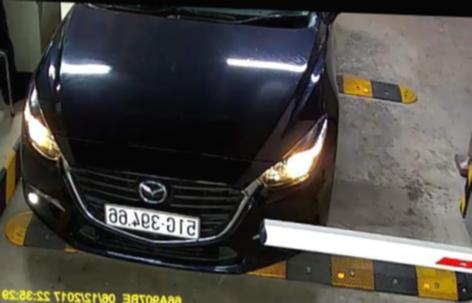License_Plate: (101, 205, 202, 240)
